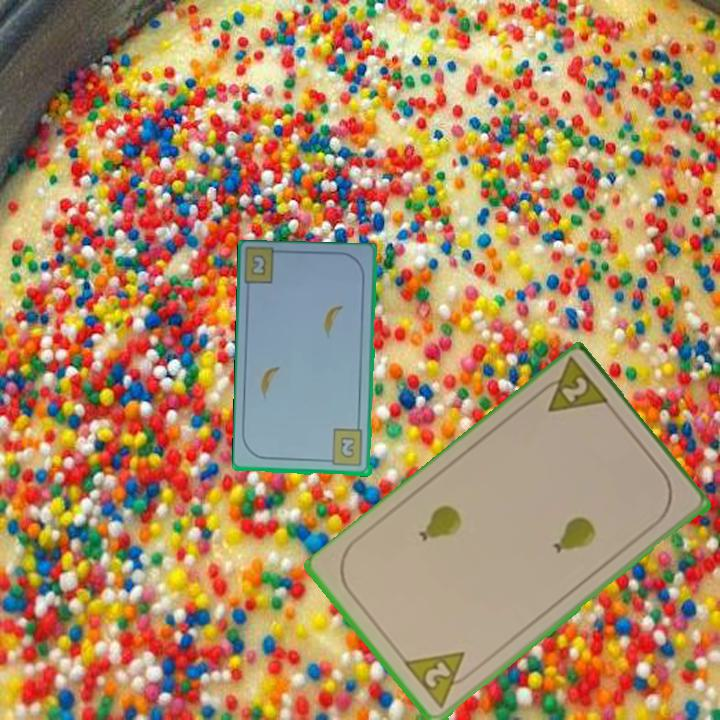2b: (323, 426, 366, 469), (248, 251, 269, 278)
2p: (530, 356, 614, 417), (402, 648, 478, 712)
